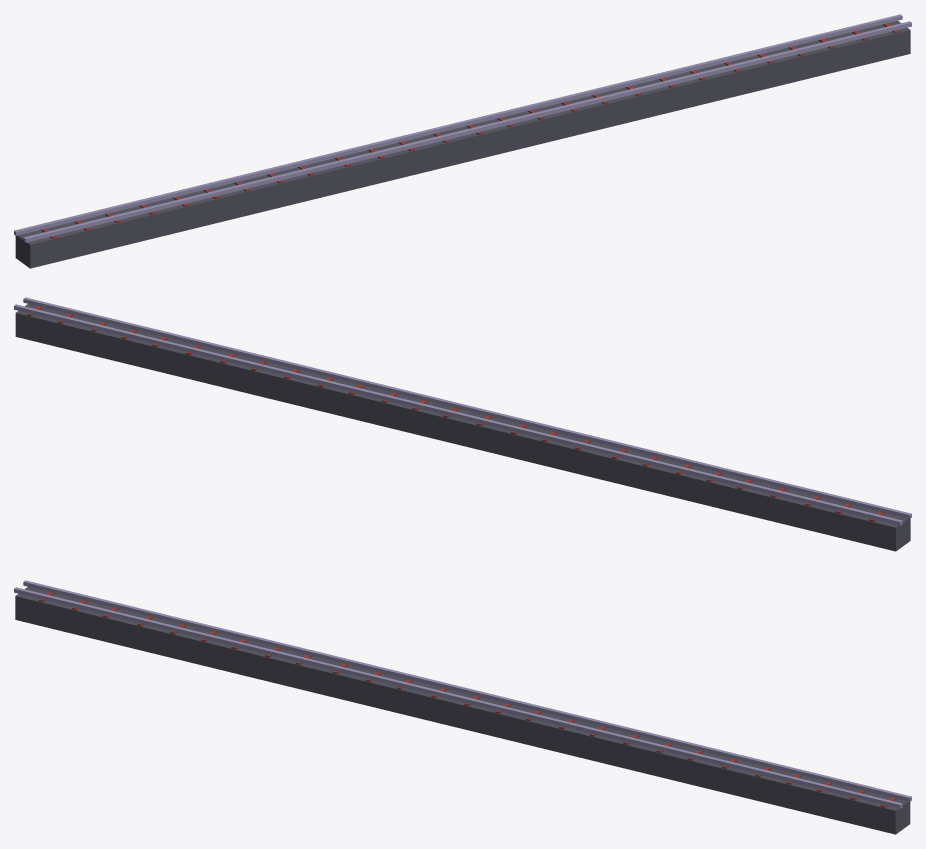
The model's file is Trainrails.fbx.
3 views of the same model, one above another, from view 1: azimuth 30°, elevation 25°; view 2: azimuth 150°, elevation 25°; view 3: azimuth 330°, elevation 25° (orthographic).
Parts seen in each view (by area): view 1: pasted__pasted__pCube1, pCube1, pCube2; view 2: pasted__pasted__pCube1, pCube2, pCube1; view 3: pasted__pasted__pCube1, pCube2, pCube1.
Boxes of the visible parts, bbox=[...] form: pasted__pasted__pCube1: bbox=[15, 21, 910, 268]; pCube1: bbox=[14, 14, 902, 235]; pCube2: bbox=[23, 21, 911, 242]; pasted__pasted__pCube1: bbox=[15, 304, 910, 551]; pCube2: bbox=[23, 297, 911, 518]; pCube1: bbox=[14, 304, 902, 525]; pasted__pasted__pCube1: bbox=[15, 587, 910, 834]; pCube2: bbox=[14, 587, 902, 808]; pCube1: bbox=[23, 580, 911, 801].
Size of the model in its own units: 10120 by 318 by 290.
